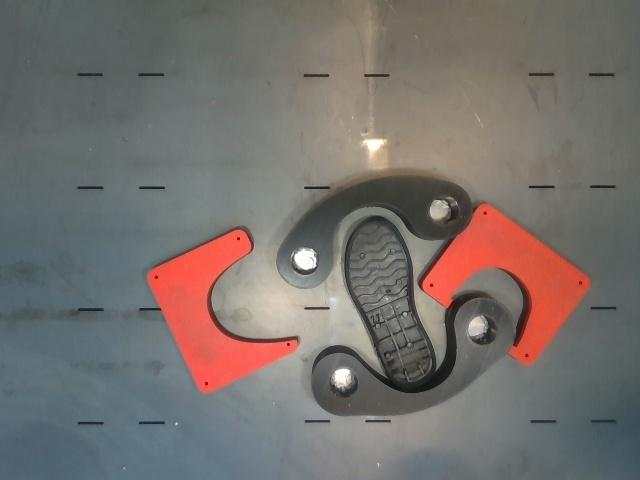shoes: (345, 217, 435, 385)
